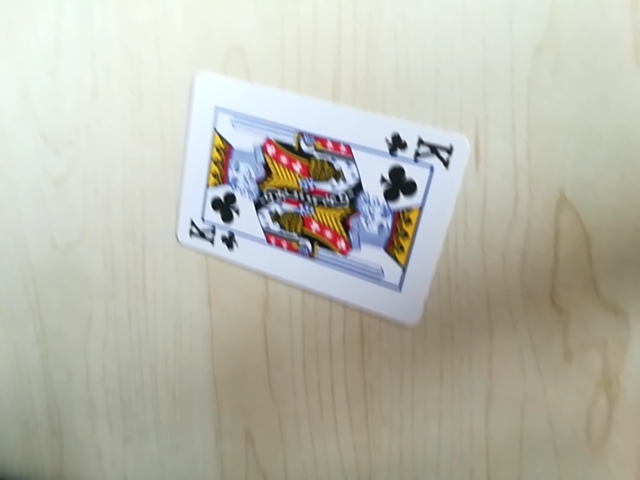mh k: (386, 129, 458, 165), (182, 216, 238, 253)
